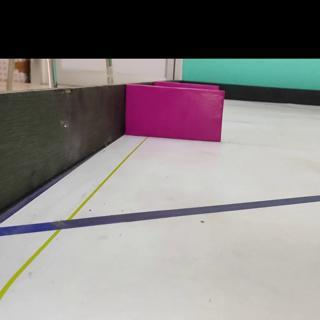xparking: (130, 83, 221, 144)
